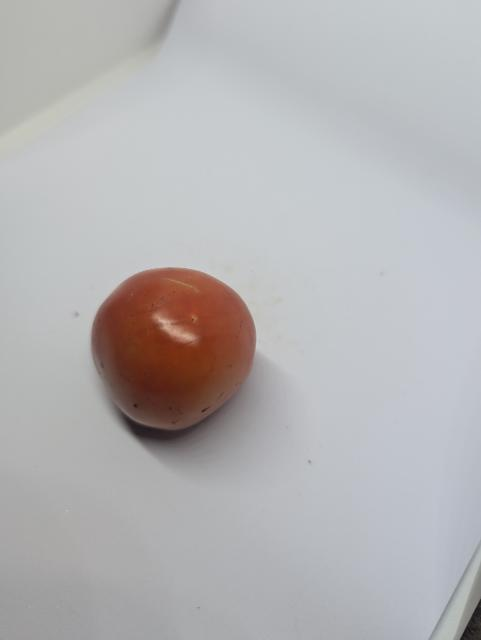red: (88, 263, 262, 436)
